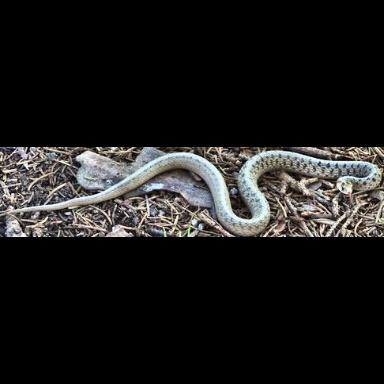snake: (9, 151, 384, 235)
